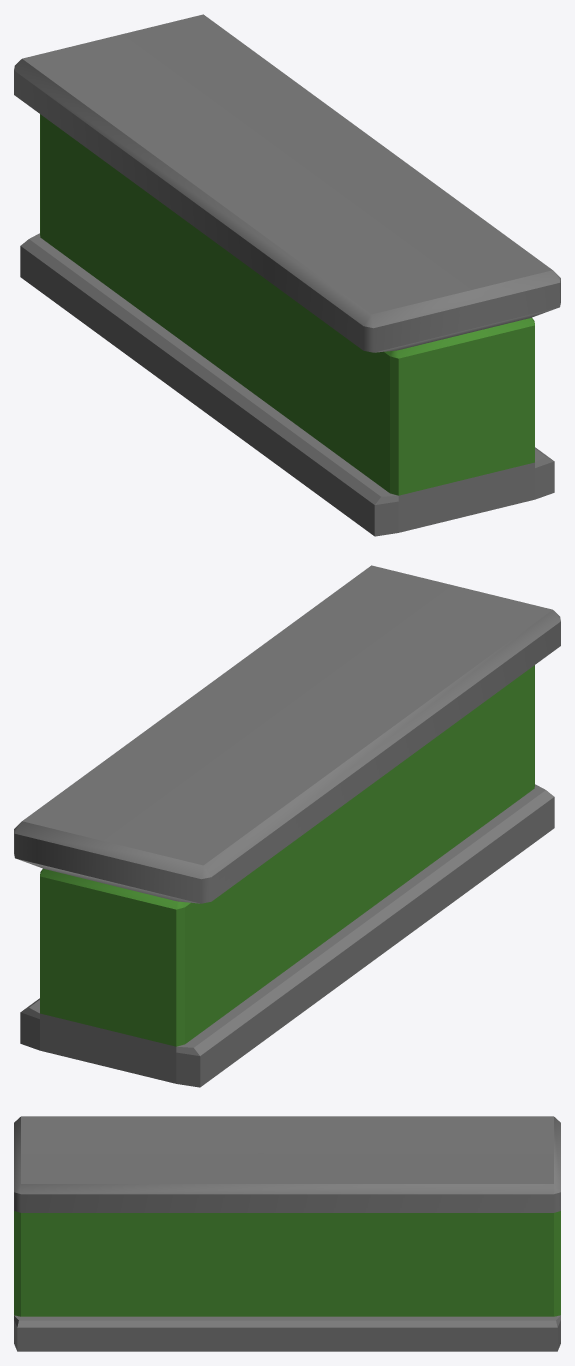
The model's file is BrickWall_1_1.fbx.
3 views of the same model, one above another, from view 1: azimuth 30°, elevation 25°; view 2: azimuth 150°, elevation 25°; view 3: azimuth 270°, elevation 25° (orthographic). The views are drawn at different scales.
Parts seen in each view (by area): view 1: BrickWall_1_1; view 2: BrickWall_1_1; view 3: BrickWall_1_1.
Part boxes in pixels (x1,y1,x2,y2): BrickWall_1_1: (14, 14, 560, 536); BrickWall_1_1: (14, 565, 560, 1087); BrickWall_1_1: (14, 1116, 560, 1351).
Size of the model in its own units: 63.57 by 67.83 by 200.
